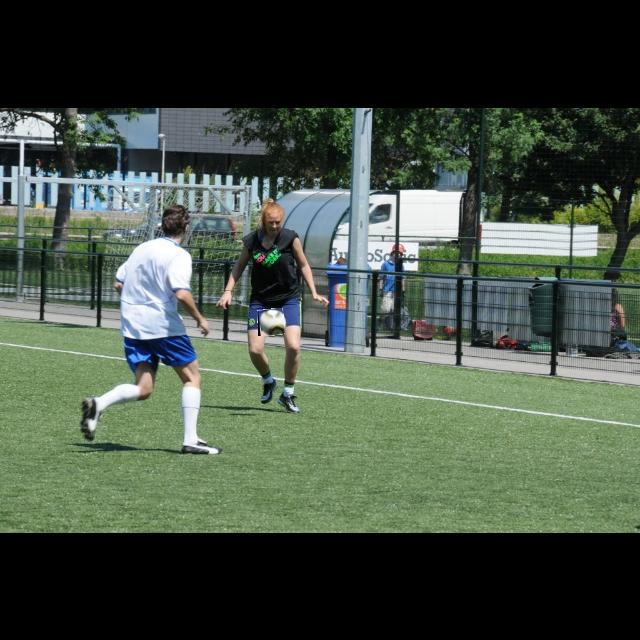Football: (258, 308, 284, 336)
